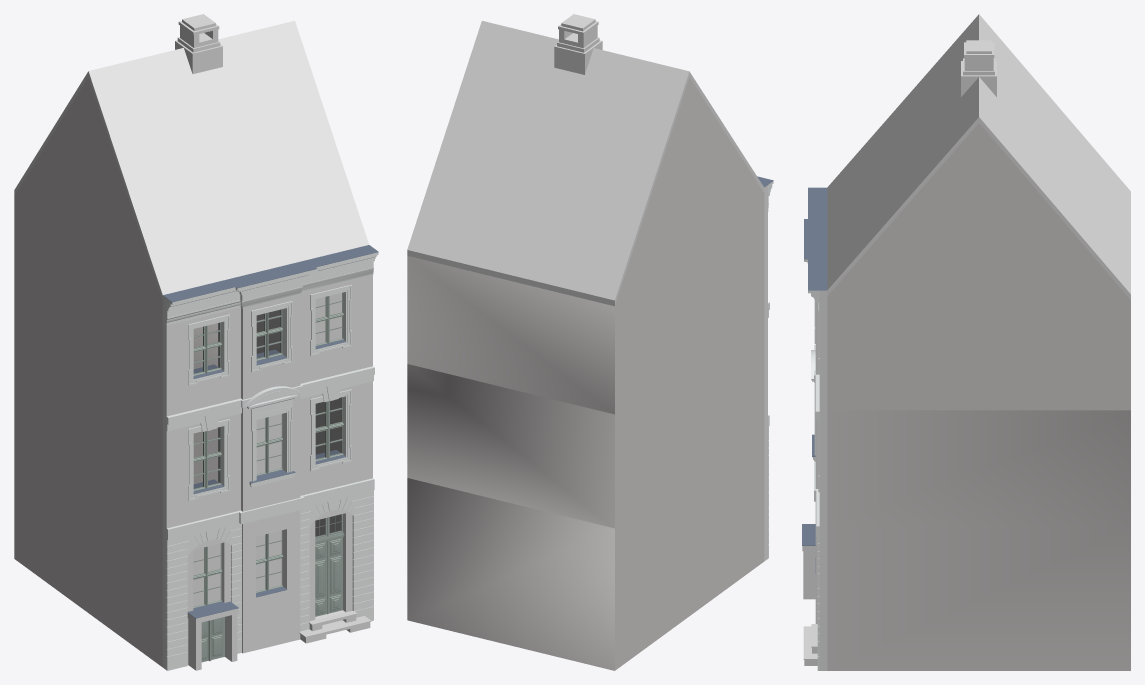
The model's file is home7.fbx.
3 renders of one model, left to right at view 1: azimuth 30°, elevation 25°; view 2: azimuth 150°, elevation 25°; view 3: azimuth 270°, elevation 25°, orthographic. The views are drawn at different scales.
Parts seen in each view (by area): view 1: WALL_outside, ROOF, WALL, WALL_BOSSE, CORNICE, WALL_FRAME_2, WINDOW_FRAME, WINDOW_GLAS.001, BOARDS, WINDOW_GLAS, DOOR_2, CHIMNEY (+3 smaller); view 2: WALL_outside, ROOF, CHIMNEY, WALL; view 3: WALL_outside, ROOF, WALL, BOARDS, CHIMNEY, CORNICE, STAIRS_2.
Part boxes in pixels (bbox=[...]): WALL_outside: bbox=[14, 77, 341, 666]; ROOF: bbox=[14, 20, 369, 299]; WALL: bbox=[162, 275, 372, 670]; WALL_BOSSE: bbox=[166, 375, 373, 670]; CORNICE: bbox=[166, 252, 378, 541]; WALL_FRAME_2: bbox=[188, 284, 351, 500]; WINDOW_FRAME: bbox=[193, 292, 343, 608]; WINDOW_GLAS.001: bbox=[193, 293, 341, 606]; BOARDS: bbox=[163, 245, 378, 618]; WINDOW_GLAS: bbox=[194, 310, 341, 488]; DOOR_2: bbox=[315, 514, 344, 616]; CHIMNEY: bbox=[175, 14, 222, 73]; WALL_outside: bbox=[407, 77, 764, 670]; ROOF: bbox=[407, 21, 764, 306]; CHIMNEY: bbox=[554, 14, 602, 74]; WALL: bbox=[764, 185, 767, 561]; WALL_outside: bbox=[827, 123, 1130, 670]; ROOF: bbox=[827, 14, 1130, 299]; WALL: bbox=[802, 290, 827, 670]; BOARDS: bbox=[802, 187, 827, 572]; CHIMNEY: bbox=[961, 40, 996, 96]; CORNICE: bbox=[804, 259, 819, 538]; STAIRS_2: bbox=[803, 624, 817, 665].
Size of the model in its own units: 762 by 1993 by 1029.
